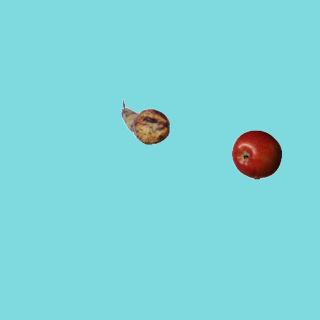Apple Braeburn: (231, 129, 281, 179)
Pear Abate: (120, 97, 170, 147)
